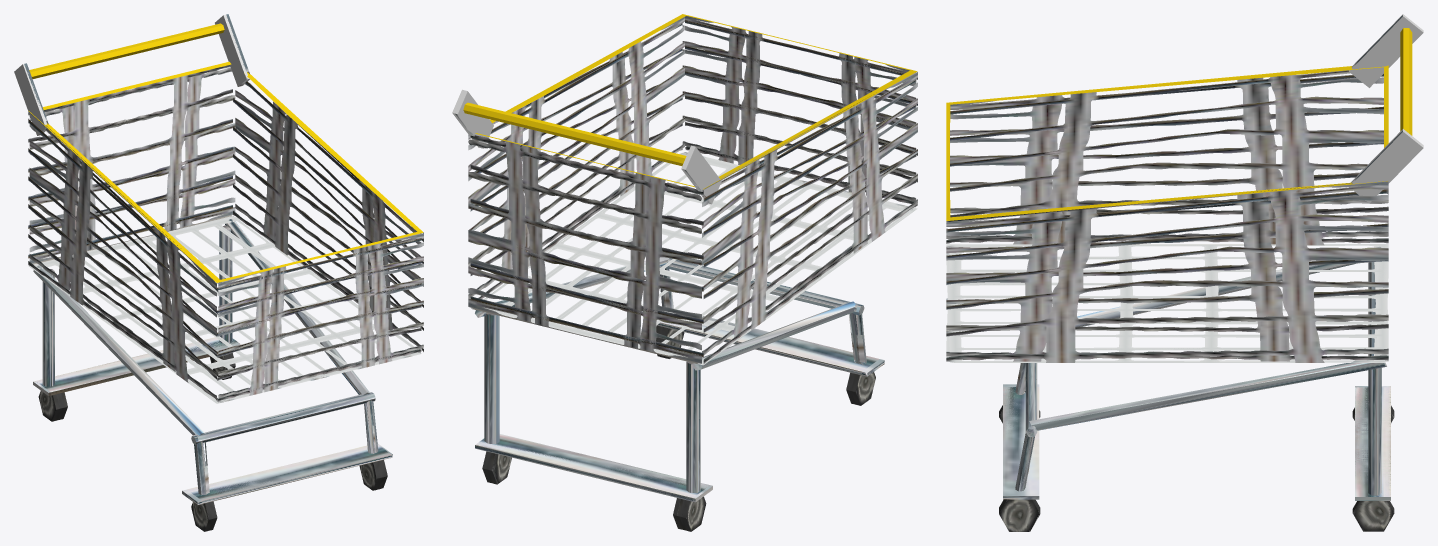
The model's file is shopping.glb.
3 renders of one model, left to right at view 1: azimuth 30°, elevation 25°; view 2: azimuth 150°, elevation 25°; view 3: azimuth 270°, elevation 25°, orthographic. The views are drawn at different scales.
Parts seen in each view (by area): view 1: Shopping; view 2: Shopping; view 3: Shopping.
Boxes of the visible parts, <box> form: Shopping: <box>14,14,423,531</box>; Shopping: <box>452,14,917,531</box>; Shopping: <box>946,14,1423,531</box>.
Bounding box in the file's own units: 0.5943 × 0.955 × 1.01.
1 material, 1 textured.
